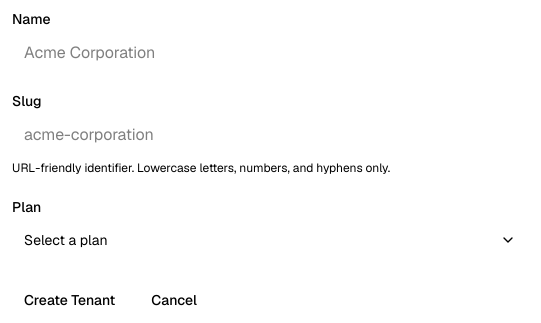
Test case: TenantForm › shows the plan chosen for a new tenant by its name
Step 1. Click the dropdown → [66, 240], box [12,222,524,258]
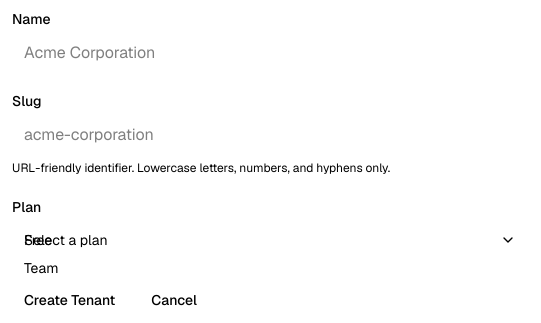
Step 2. Click the option "Free" → [38, 240], box [24,231,52,249]
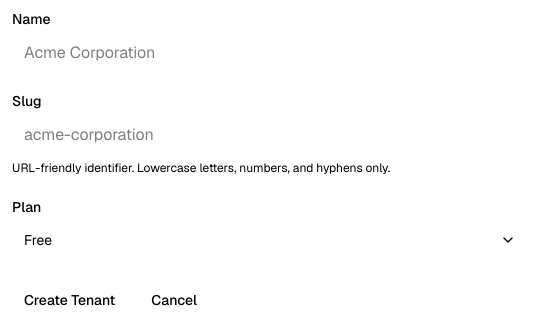
expect the text "Free" is shown: met, box [24,231,52,249]
